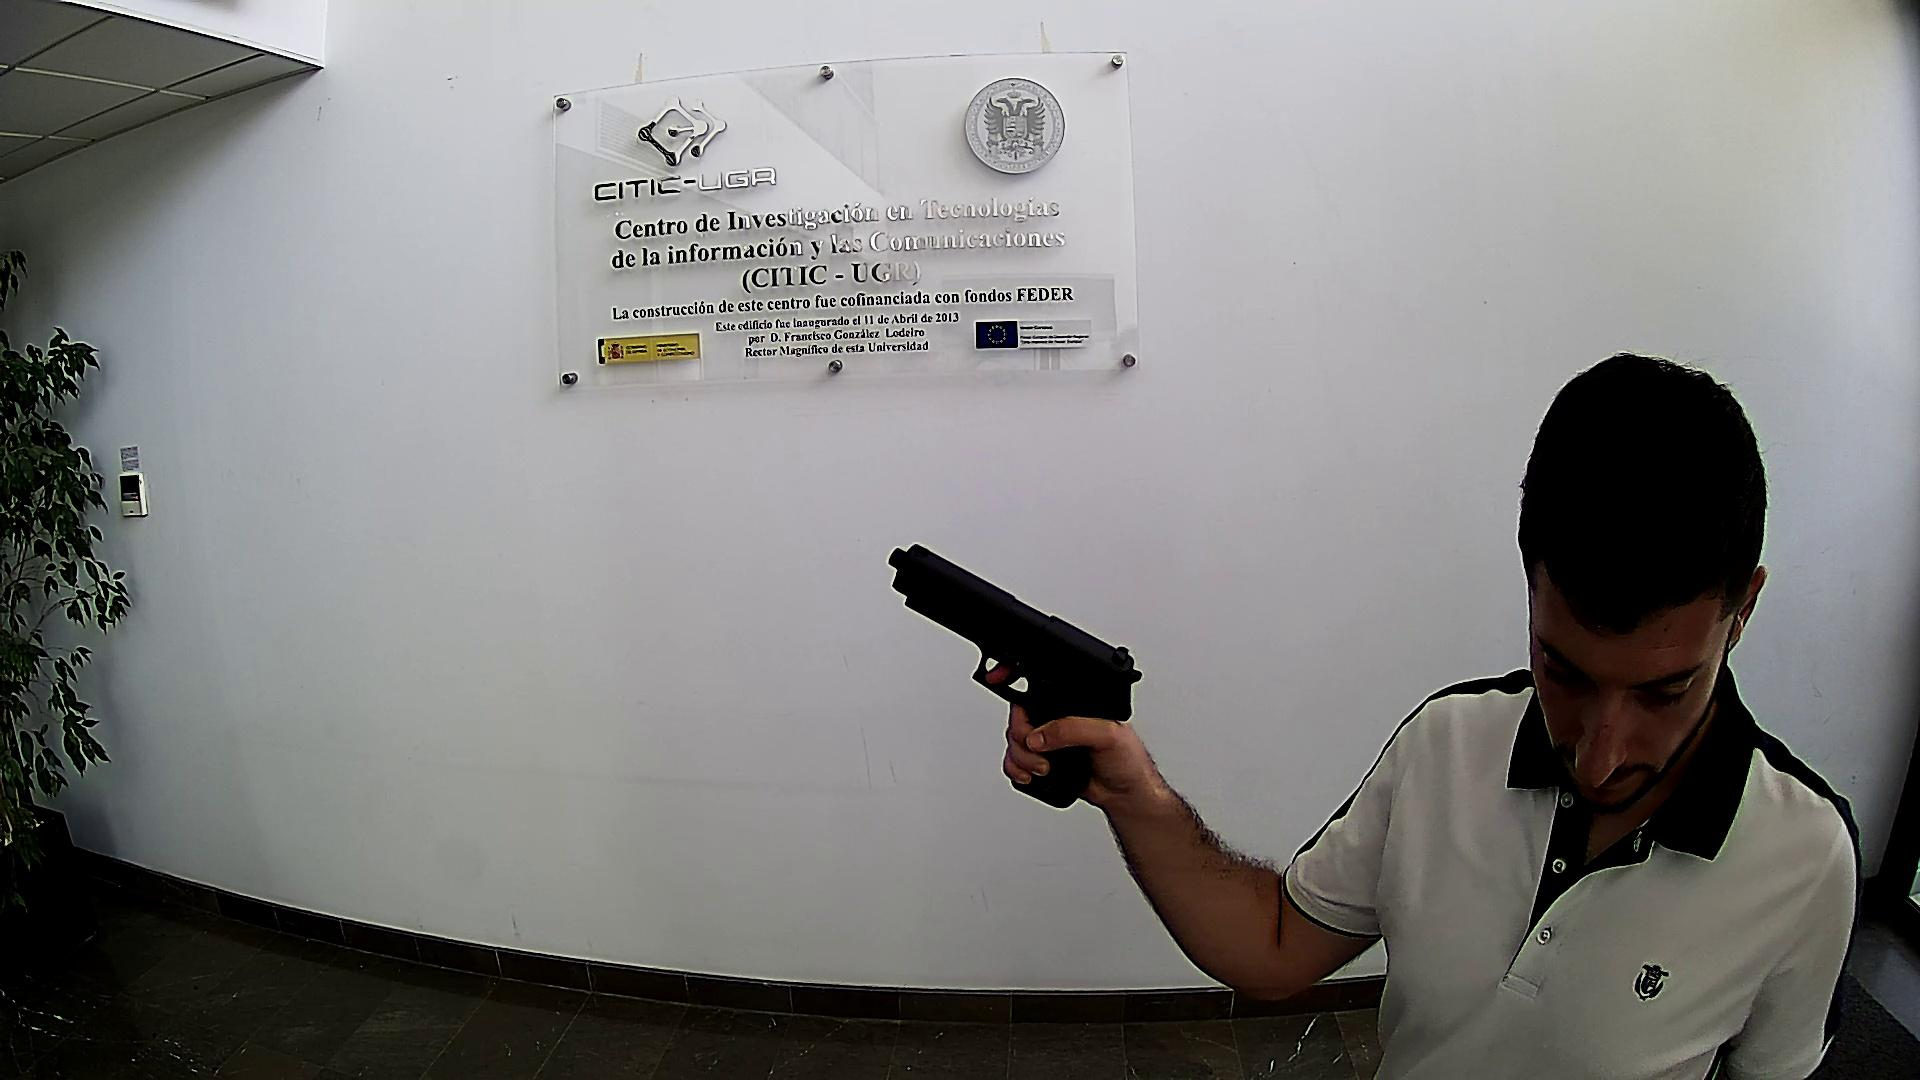criminal: (887, 349, 1865, 1080)
weapon: (887, 541, 1145, 807)
